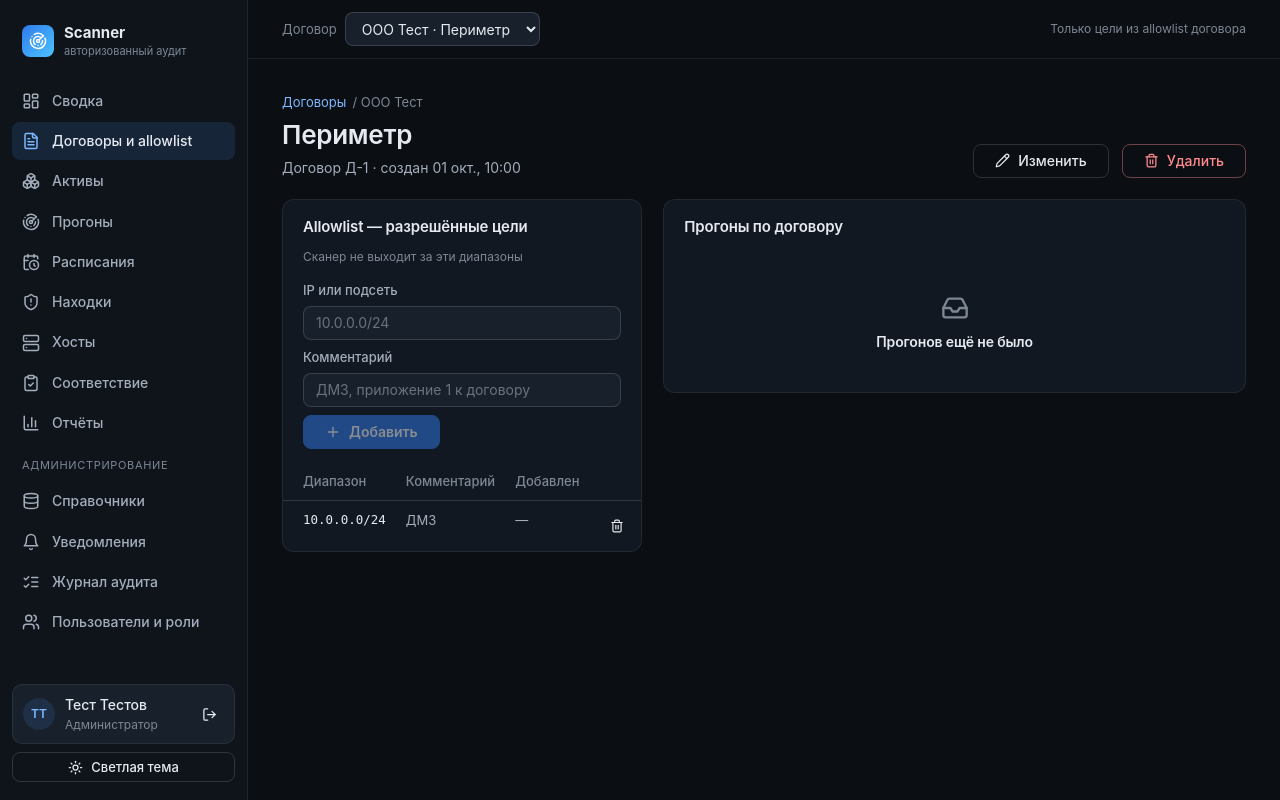
it: повторно занесённая цель не дублируется в allowlist и подсвечивает существующую запись
Type "10.0.0.5" into the field with placeholder "10.0.0.0/24". click: (462, 323)
box: [303,306,621,340]
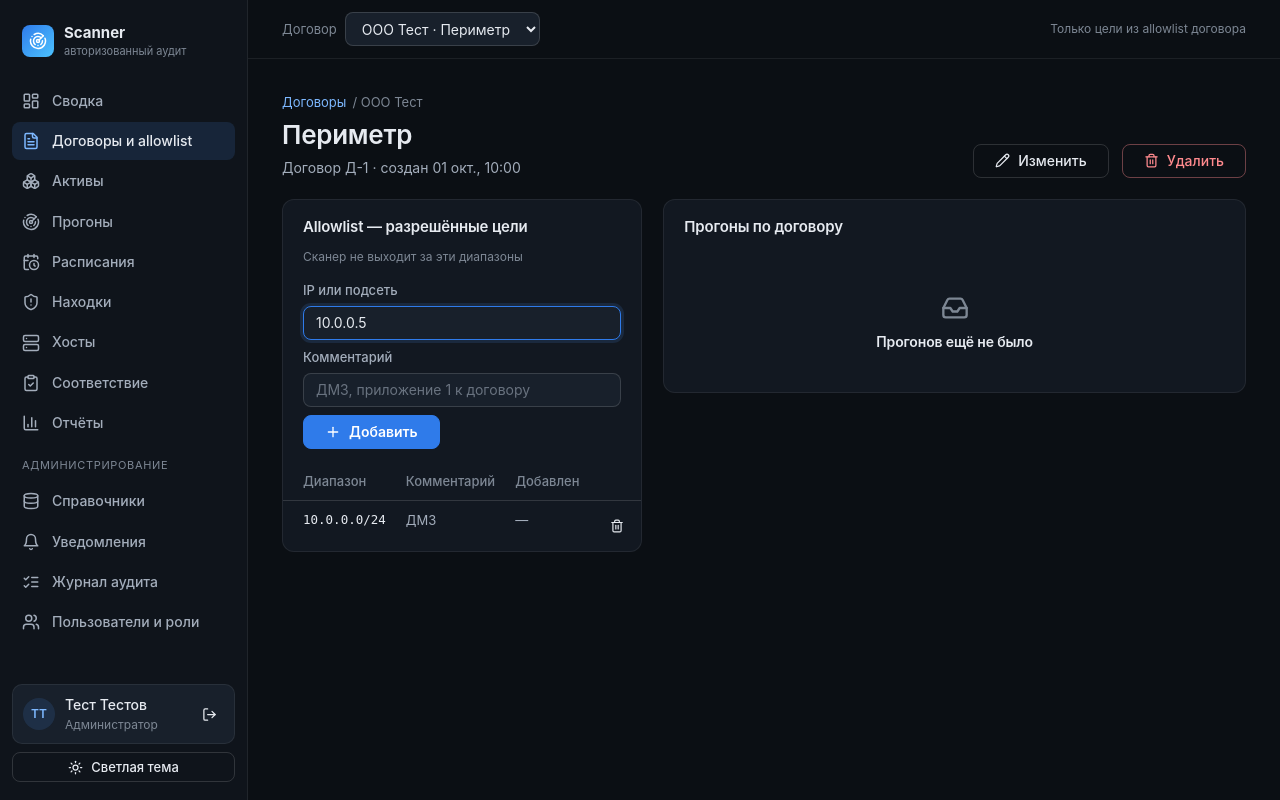
Click the button "Добавить". click: (371, 432)
box: [303,415,440,449]
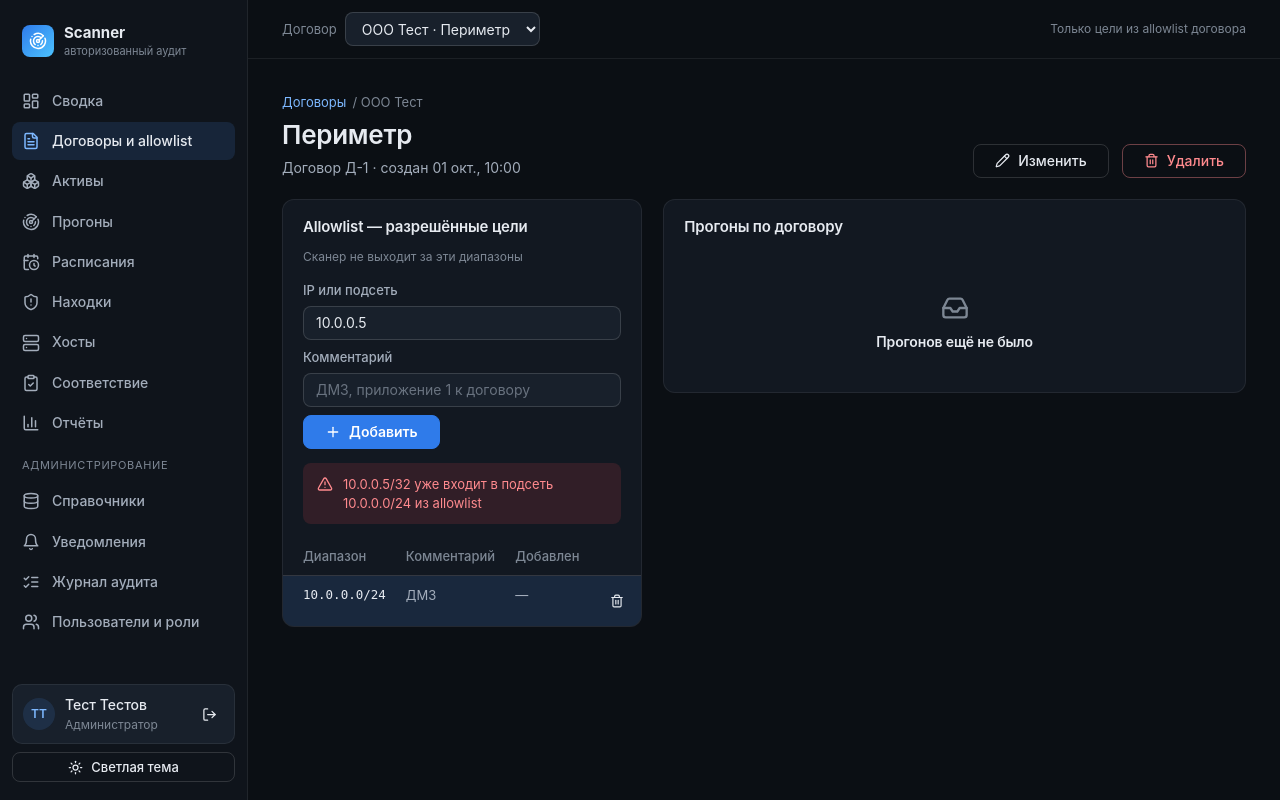
Check: the text "10.0.0.5/32 уже входит в подсеть 10.0.0.0/24 из allowlist" is shown, box [343,476,553,510]
Check: the number of rows is 2, box [283,538,641,576]; [283,576,641,626]
